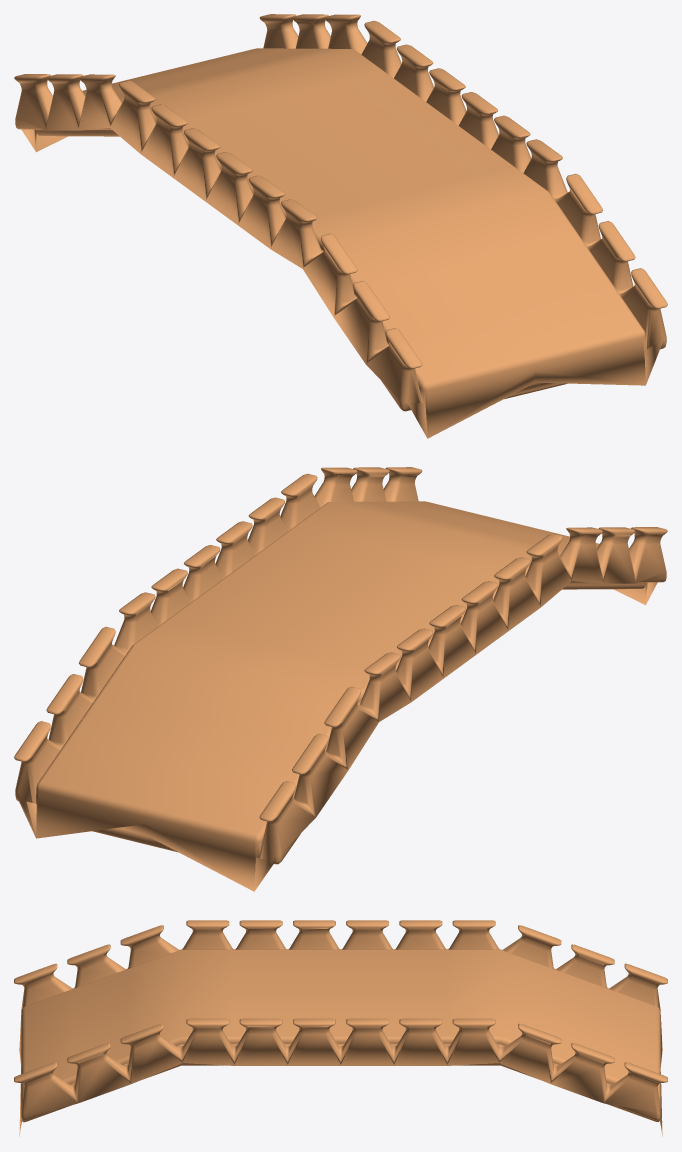
Rendered from ponte.fbx.
The picture shows the model from 3 angles, top to bottom: view 1: azimuth 30°, elevation 25°; view 2: azimuth 150°, elevation 25°; view 3: azimuth 270°, elevation 25°; orthographic projection. The views are drawn at different scales.
Parts seen in each view (by area): view 1: Cube.012; view 2: Cube.012; view 3: Cube.012.
Boxes of the visible parts, left/top/right/bottom form: Cube.012: left=14, top=14, right=667, bottom=438; Cube.012: left=14, top=467, right=667, bottom=891; Cube.012: left=14, top=920, right=667, bottom=1136.
Size of the model in its own units: 96.28 by 50.72 by 246.
